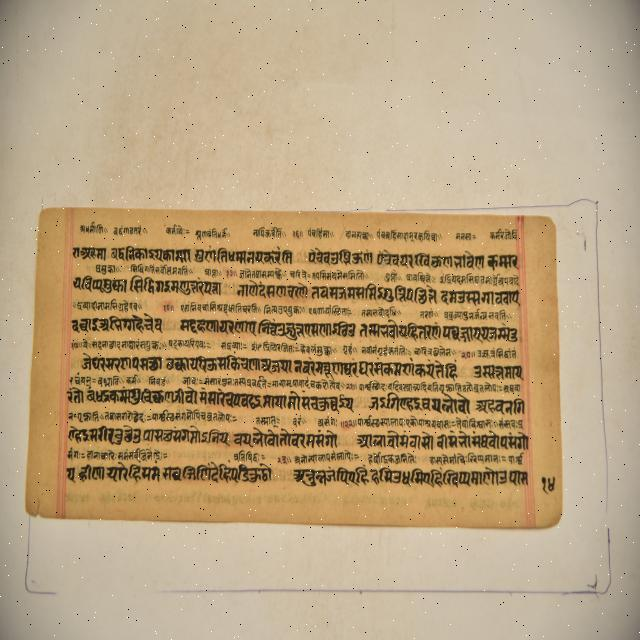text_paragraph: (23, 205, 564, 535)
